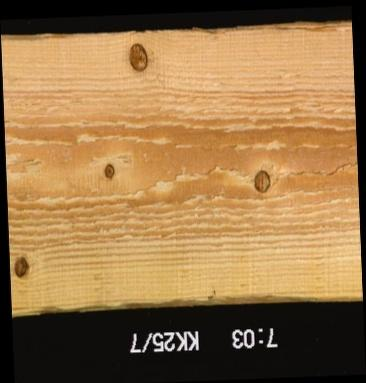dry_knot: (251, 169, 271, 194), (11, 254, 30, 280), (101, 161, 116, 180)
wave: (2, 23, 350, 40), (76, 287, 361, 306)
